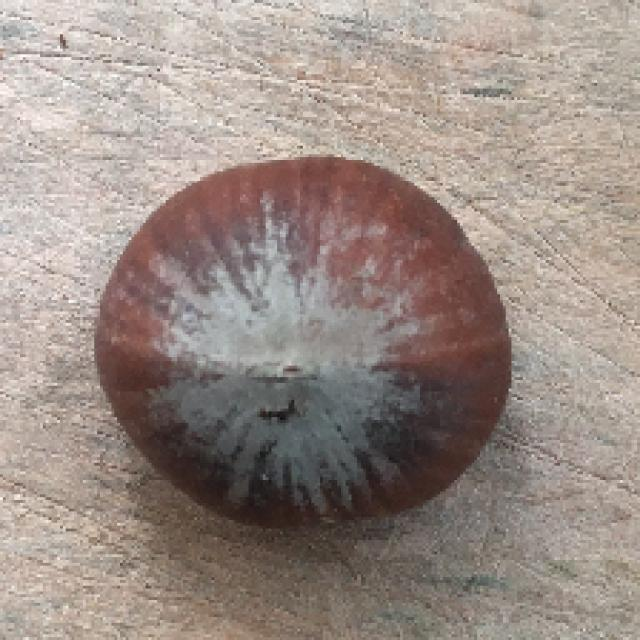DamagedHazelnut: (91, 152, 516, 526)
